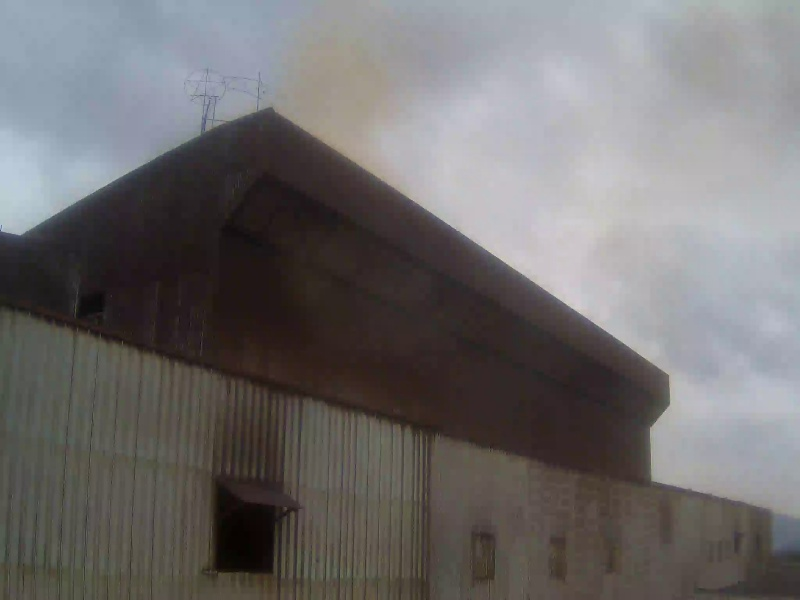Ruim: (262, 23, 482, 255)
